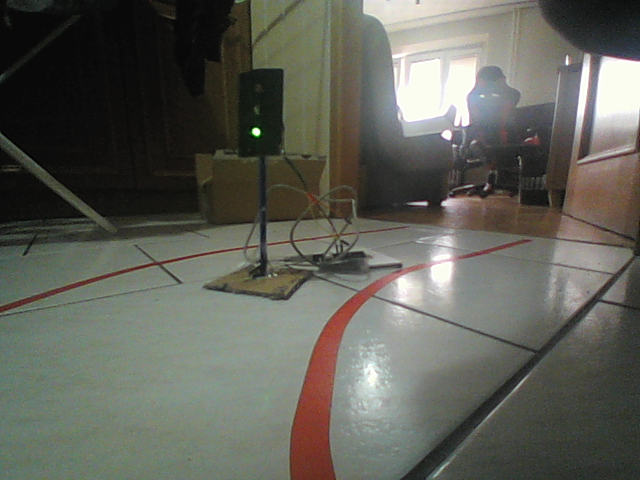green_sign: (234, 69, 287, 158)
